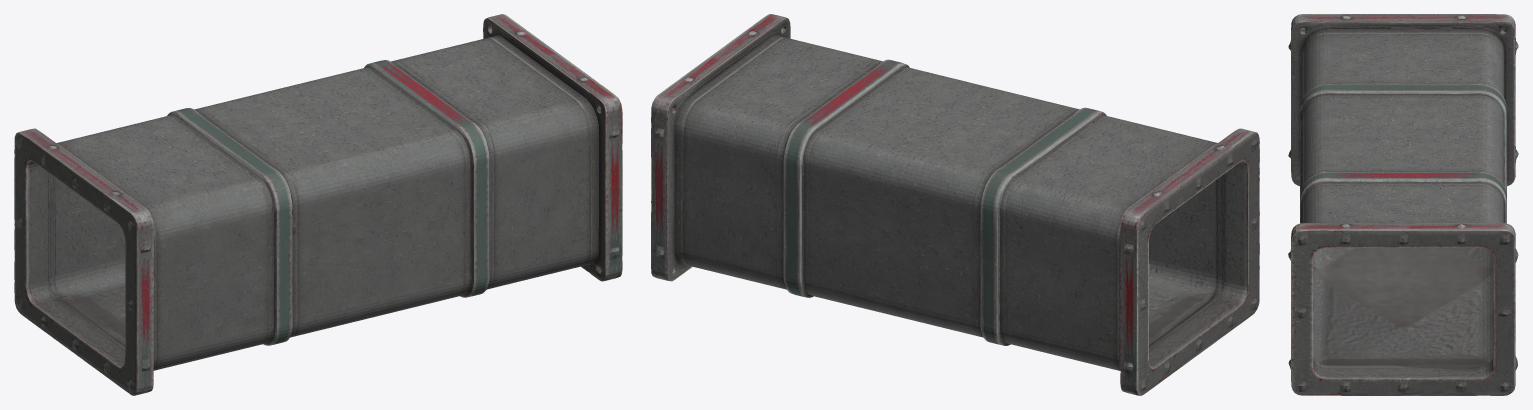
File: Meshy_AI_Riveted_Steel_Duct_0623190737_texture.fbx
3 renders of one model, left to right at view 1: azimuth 30°, elevation 25°; view 2: azimuth 150°, elevation 25°; view 3: azimuth 270°, elevation 25°, orthographic. The views are drawn at different scales.
Parts seen in each view (by area): view 1: temp; view 2: temp; view 3: temp.
Boxes of the visible parts, <box> form: temp: <box>14,14,622,395</box>; temp: <box>651,14,1259,395</box>; temp: <box>1288,14,1518,395</box>.
Bounding box in the file's own units: 191 × 69.06 × 85.1.
1 material, 1 textured.
